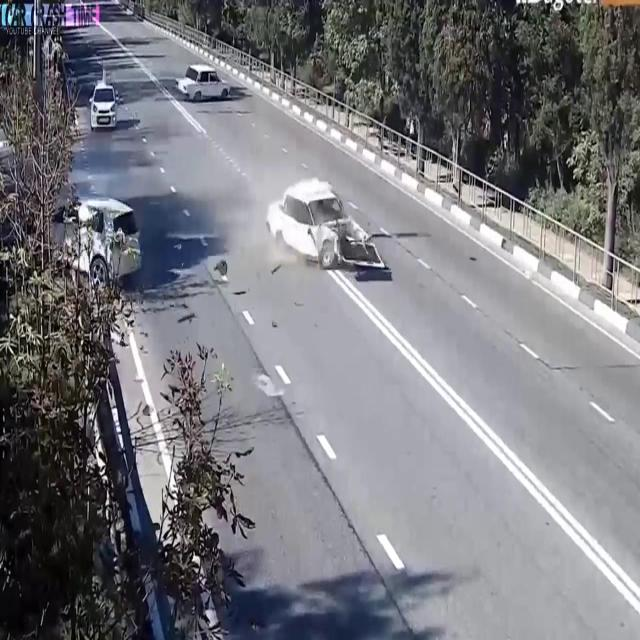accident: (6, 179, 160, 302), (259, 171, 393, 293)
